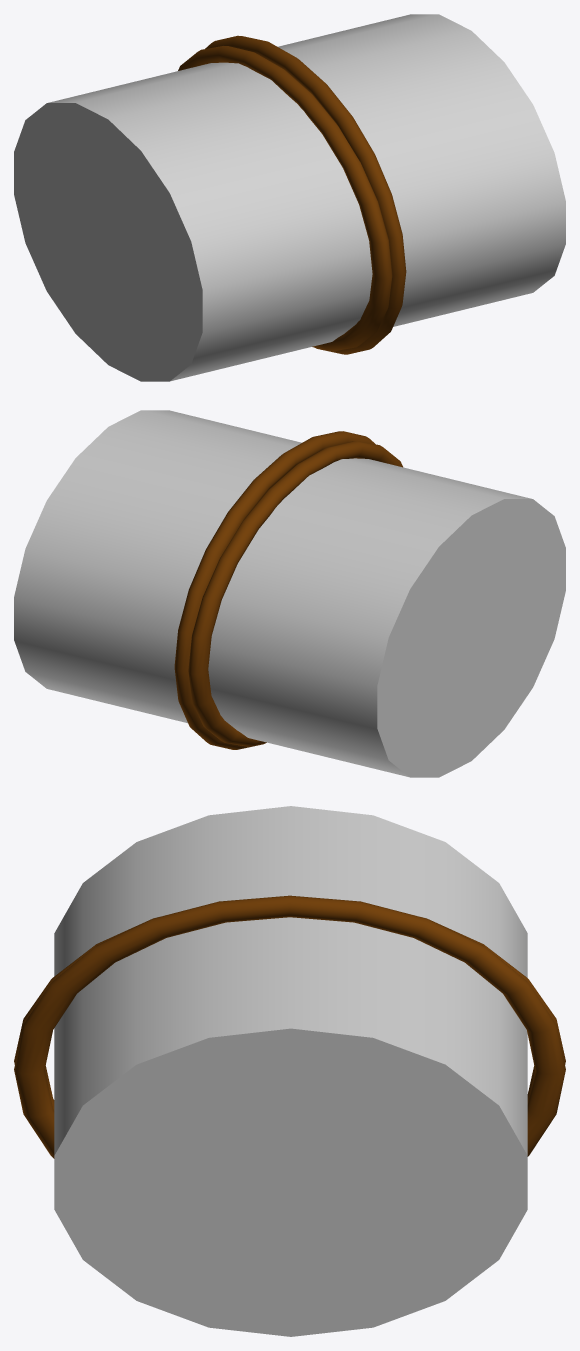
File: billete recogido.fbx
3 renders of one model, top to bottom at view 1: azimuth 30°, elevation 25°; view 2: azimuth 150°, elevation 25°; view 3: azimuth 270°, elevation 25°, orthographic. The views are drawn at different scales.
Visible parts, largest first — view 1: Cylinder001, Torus001, Torus002; view 2: Cylinder001, Torus001, Torus002; view 3: Cylinder001, Torus002, Torus001.
Part boxes in pixels (x1,y1,x2,y2): Cylinder001: (14,14,565,381); Torus001: (178,46,392,351); Torus002: (205,35,406,354); Cylinder001: (14,410,565,777); Torus001: (188,441,402,746); Torus002: (174,431,375,749); Cylinder001: (54,806,527,1336); Torus002: (14,895,565,1158); Torus001: (14,918,565,1110).
Size of the model in its own units: 7.05 by 5.1 by 7.39.
